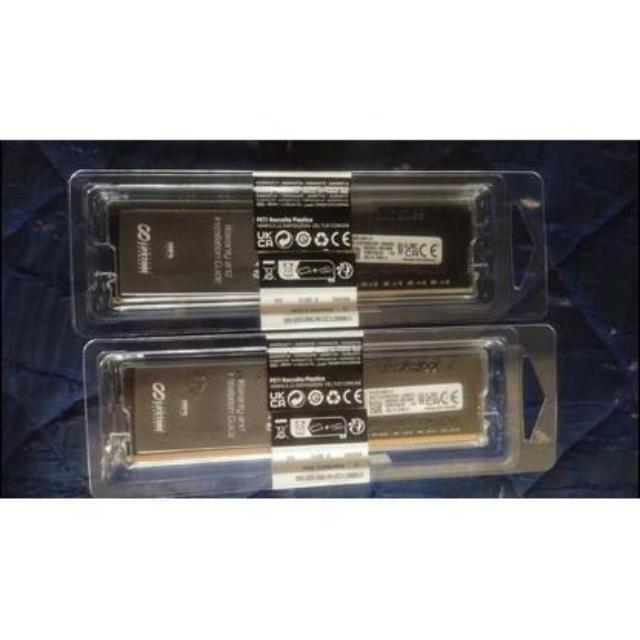RAM: (111, 195, 482, 308), (120, 354, 489, 460)
